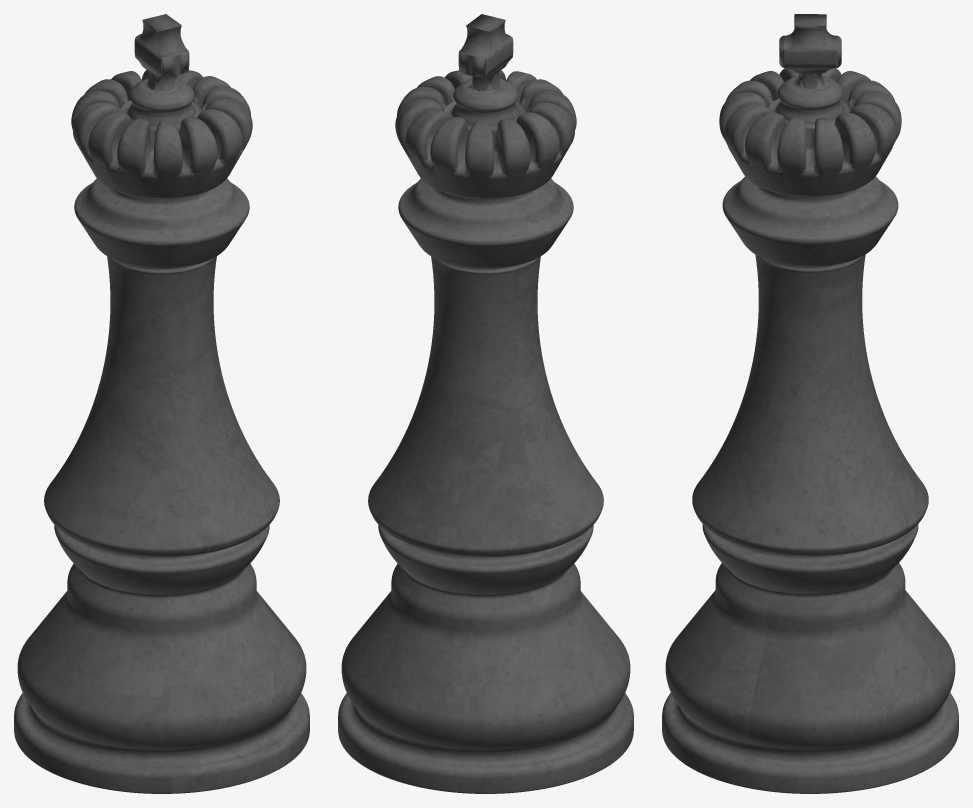
File: bking.glb
3 renders of one model, left to right at view 1: azimuth 30°, elevation 25°; view 2: azimuth 150°, elevation 25°; view 3: azimuth 270°, elevation 25°, orthographic.
Parts seen in each view (by area): view 1: King.001; view 2: King.001; view 3: King.001.
Boxes of the visible parts, left/top/right/bottom form: King.001: left=14, top=14, right=309, bottom=793; King.001: left=338, top=14, right=633, bottom=793; King.001: left=662, top=14, right=958, bottom=793.
Size of the model in its own units: 0.034 by 0.09 by 0.034.
Materials: 1 (1 with a texture image).
